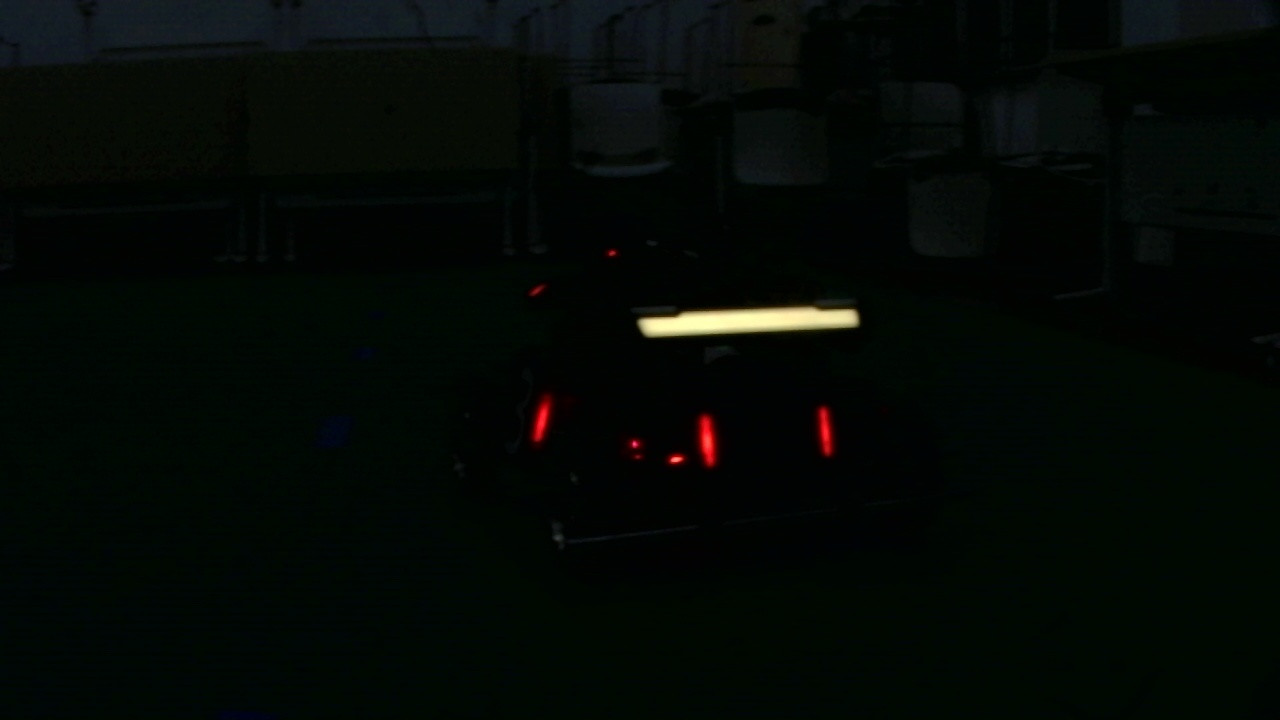lamp: (813, 398, 837, 463), (527, 392, 553, 450), (692, 411, 719, 462)
notpair1: (532, 394, 718, 474)
pair1: (693, 411, 834, 464)
